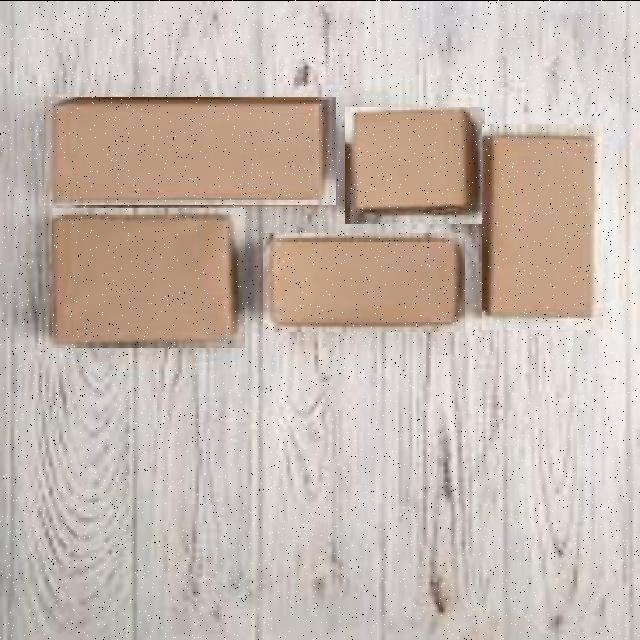normal: (44, 96, 336, 204), (52, 208, 245, 348), (482, 123, 603, 329), (263, 232, 465, 331), (344, 106, 484, 223)
